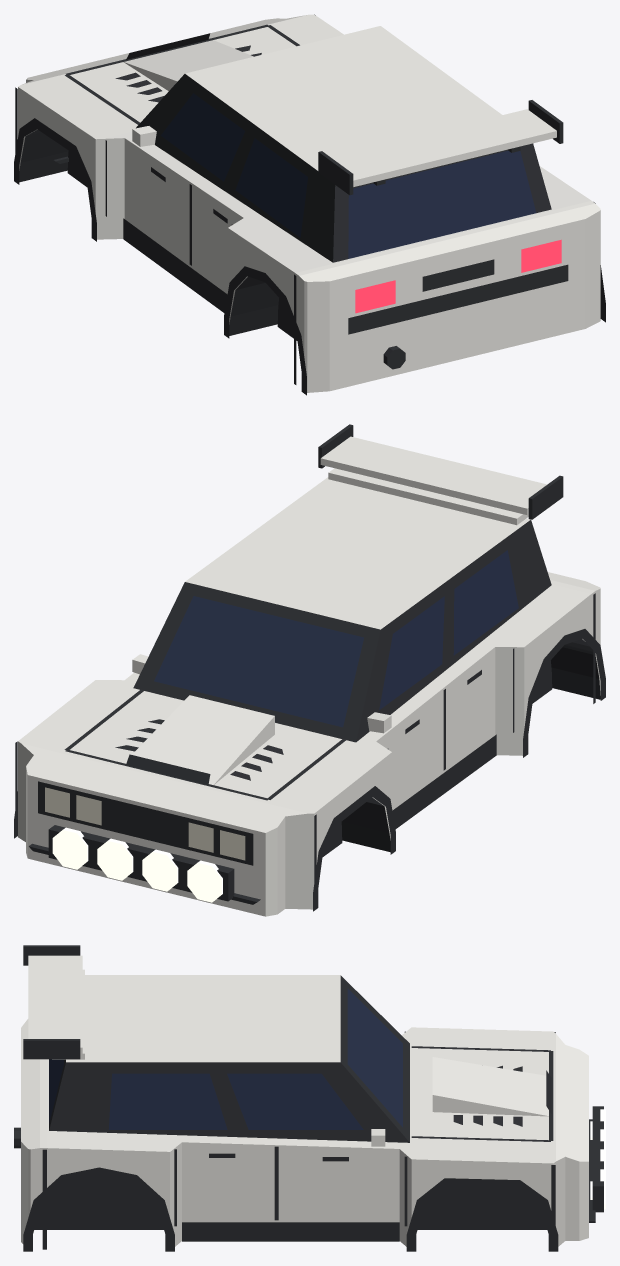
The model's file is Furia.fbx.
3 renders of one model, top to bottom at view 1: azimuth 30°, elevation 25°; view 2: azimuth 150°, elevation 25°; view 3: azimuth 270°, elevation 25°, orthographic. The views are drawn at different scales.
Visible parts, largest first — view 1: BumperRear, Roof, RearWindow, Pillars, Hood, Door_FL, Opt_Wing_Rally_WingBlade, Cowl, Window_RL, Underbody, Window_FL, TailGarnish (+16 smaller); view 2: Roof, BumperFront, Windshield, Hood, Pillars, Opt_Wing_Rally_WingBlade, Opt_Hood_Scoop_HoodScoop, Door_RL, Cowl, Opt_Bumper_Lamps_RallyLamp, Grille, Door_FL (+18 smaller); view 3: Roof, Pillars, Hood, WheelWell, Door_FR, Door_RR, BumperFront, Window_RR, Window_FR, Opt_Hood_Scoop_HoodScoop, Opt_Wing_Rally_WingBlade, Windshield (+14 smaller).
Boxes of the visible parts, x1=… form: BumperRear: x1=298, y1=202, x2=600, y2=392; Roof: x1=185, y1=26, x2=502, y2=170; RearWindow: x1=348, y1=150, x2=536, y2=258; Pillars: x1=136, y1=74, x2=551, y2=262; Hood: x1=18, y1=14, x2=343, y2=139; Door_FL: x1=101, y1=138, x2=191, y2=267; Opt_Wing_Rally_WingBlade: x1=330, y1=109, x2=556, y2=186; Cowl: x1=102, y1=131, x2=591, y2=272; Window_RL: x1=235, y1=138, x2=307, y2=237; Underbody: x1=19, y1=129, x2=278, y2=335; Window_FL: x1=161, y1=93, x2=244, y2=181; TailGarnish: x1=348, y1=264, x2=568, y2=334; Roof: x1=185, y1=477, x2=530, y2=629; BumperFront: x1=21, y1=743, x2=308, y2=916; Windshield: x1=154, y1=596, x2=363, y2=727; Hood: x1=18, y1=680, x2=391, y2=813; Pillars: x1=133, y1=520, x2=551, y2=742; Opt_Wing_Rally_WingBlade: x1=320, y1=436, x2=546, y2=514; Opt_Hood_Scoop_HoodScoop: x1=124, y1=695, x2=274, y2=785; Door_RL: x1=443, y1=647, x2=518, y2=772; Cowl: x1=102, y1=584, x2=591, y2=749; Opt_Bumper_Lamps_RallyLamp: x1=52, y1=827, x2=222, y2=902; Grille: x1=38, y1=781, x2=253, y2=865; Door_FL: x1=376, y1=688, x2=443, y2=810; Roof: x1=66, y1=975, x2=340, y2=1062; Pillars: x1=49, y1=975, x2=409, y2=1142; Hood: x1=409, y1=1027, x2=555, y2=1163; WheelWell: x1=34, y1=1176, x2=547, y2=1229; Door_FR: x1=276, y1=1145, x2=408, y2=1246; Door_RR: x1=172, y1=1142, x2=276, y2=1246; BumperFront: x1=556, y1=1034, x2=588, y2=1246; Window_RR: x1=108, y1=1073, x2=227, y2=1129; Window_FR: x1=227, y1=1073, x2=363, y2=1129; Opt_Hood_Scoop_HoodScoop: x1=432, y1=1057, x2=548, y2=1116; Opt_Wing_Rally_WingBlade: x1=28, y1=955, x2=82, y2=1053; Windshield: x1=347, y1=988, x2=402, y2=1127.
Size of the model in its own units: 666 by 448 by 1251.
